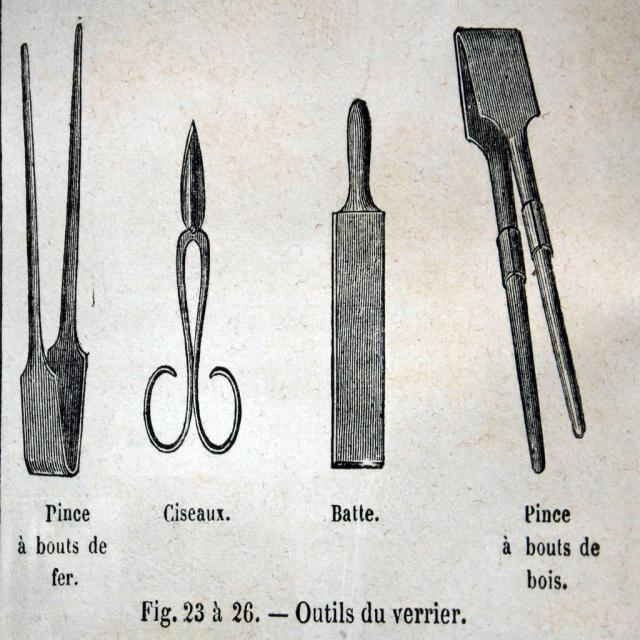scissors: (142, 118, 242, 454)
